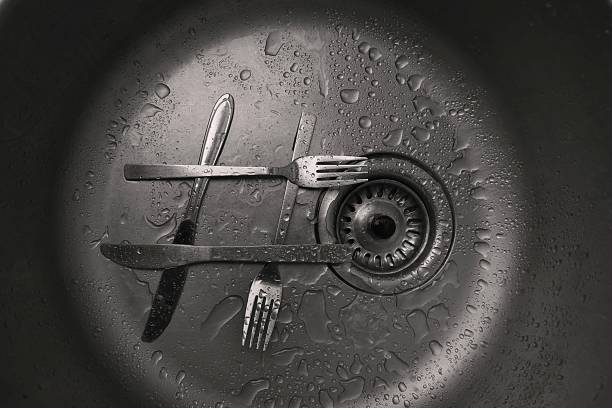knife: (140, 92, 236, 344), (99, 240, 356, 270)
